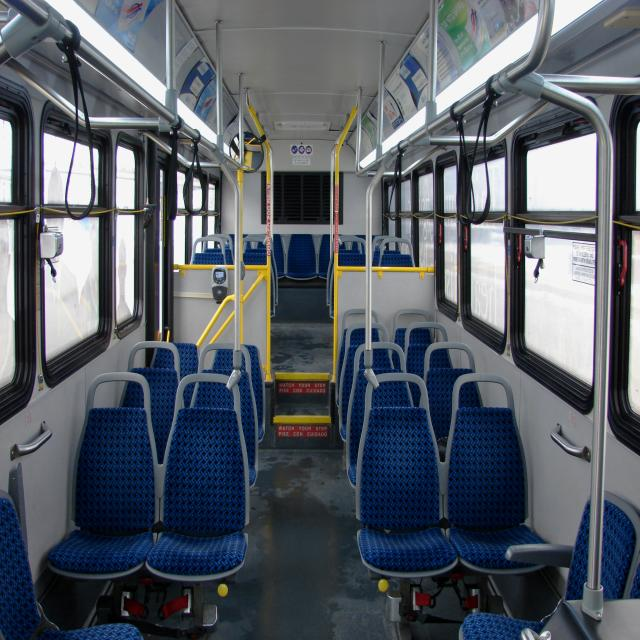asiento-libre: (45, 372, 164, 579), (146, 374, 249, 582), (356, 369, 458, 577), (445, 373, 545, 574), (128, 341, 181, 464), (424, 342, 475, 448), (346, 344, 367, 487), (238, 345, 258, 486), (404, 322, 447, 378), (242, 345, 263, 439), (285, 234, 316, 278), (379, 238, 415, 268), (190, 237, 226, 266), (174, 343, 198, 379), (207, 235, 235, 265), (338, 238, 366, 267), (372, 236, 397, 266), (243, 238, 266, 265), (318, 234, 330, 279), (273, 234, 285, 278)
